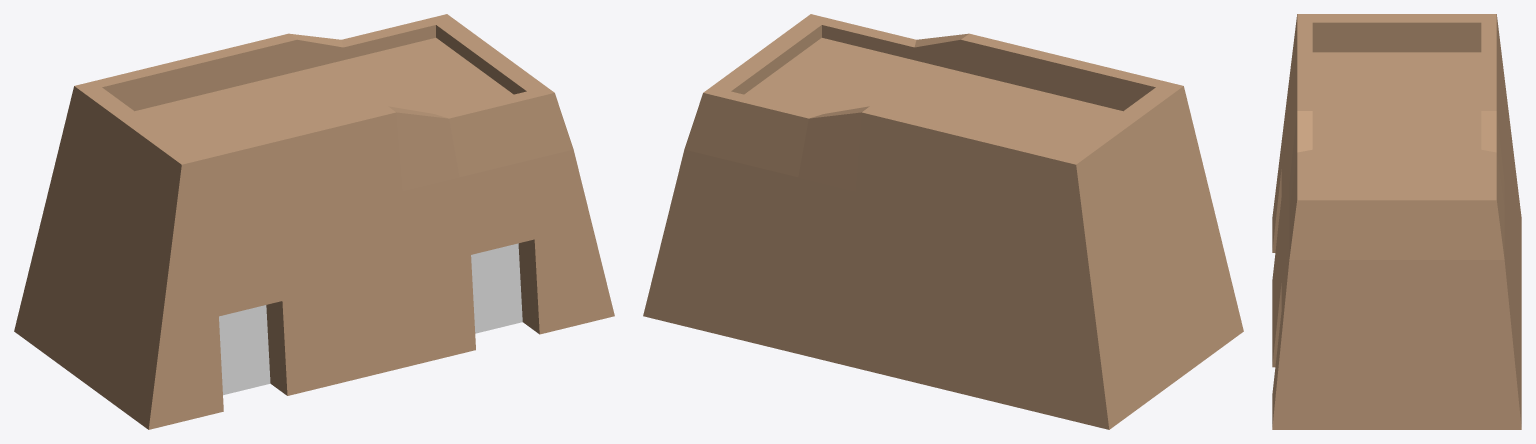
Rendered from HouseBase003Var003.fbx.
The picture shows the model from 3 angles, left to right: view 1: azimuth 30°, elevation 25°; view 2: azimuth 150°, elevation 25°; view 3: azimuth 270°, elevation 25°; orthographic projection. The views are drawn at different scales.
Parts seen in each view (by area): view 1: HouseBase003Var003; view 2: HouseBase003Var003; view 3: HouseBase003Var003.
Part boxes in pixels (x1,y1,x2,y2): HouseBase003Var003: (14,14,614,429); HouseBase003Var003: (643,14,1243,429); HouseBase003Var003: (1272,14,1521,429).
Size of the model in its own units: 1600 by 800 by 800.
